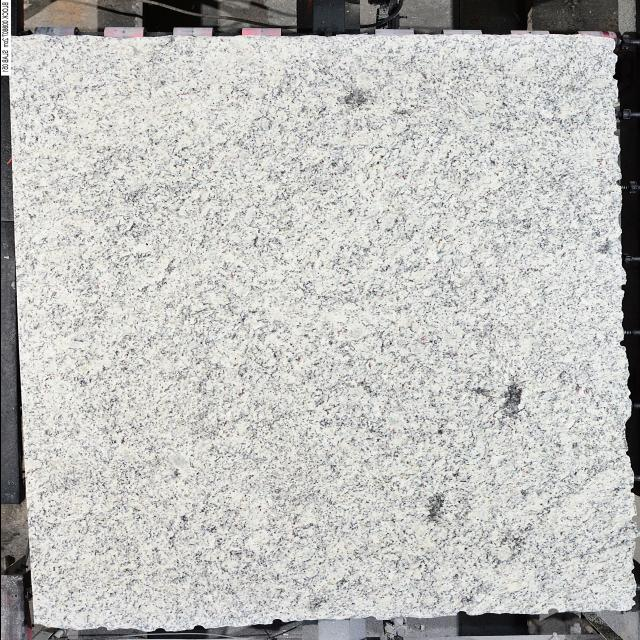chapa: (10, 35, 634, 630)
veio: (546, 607, 558, 617)
